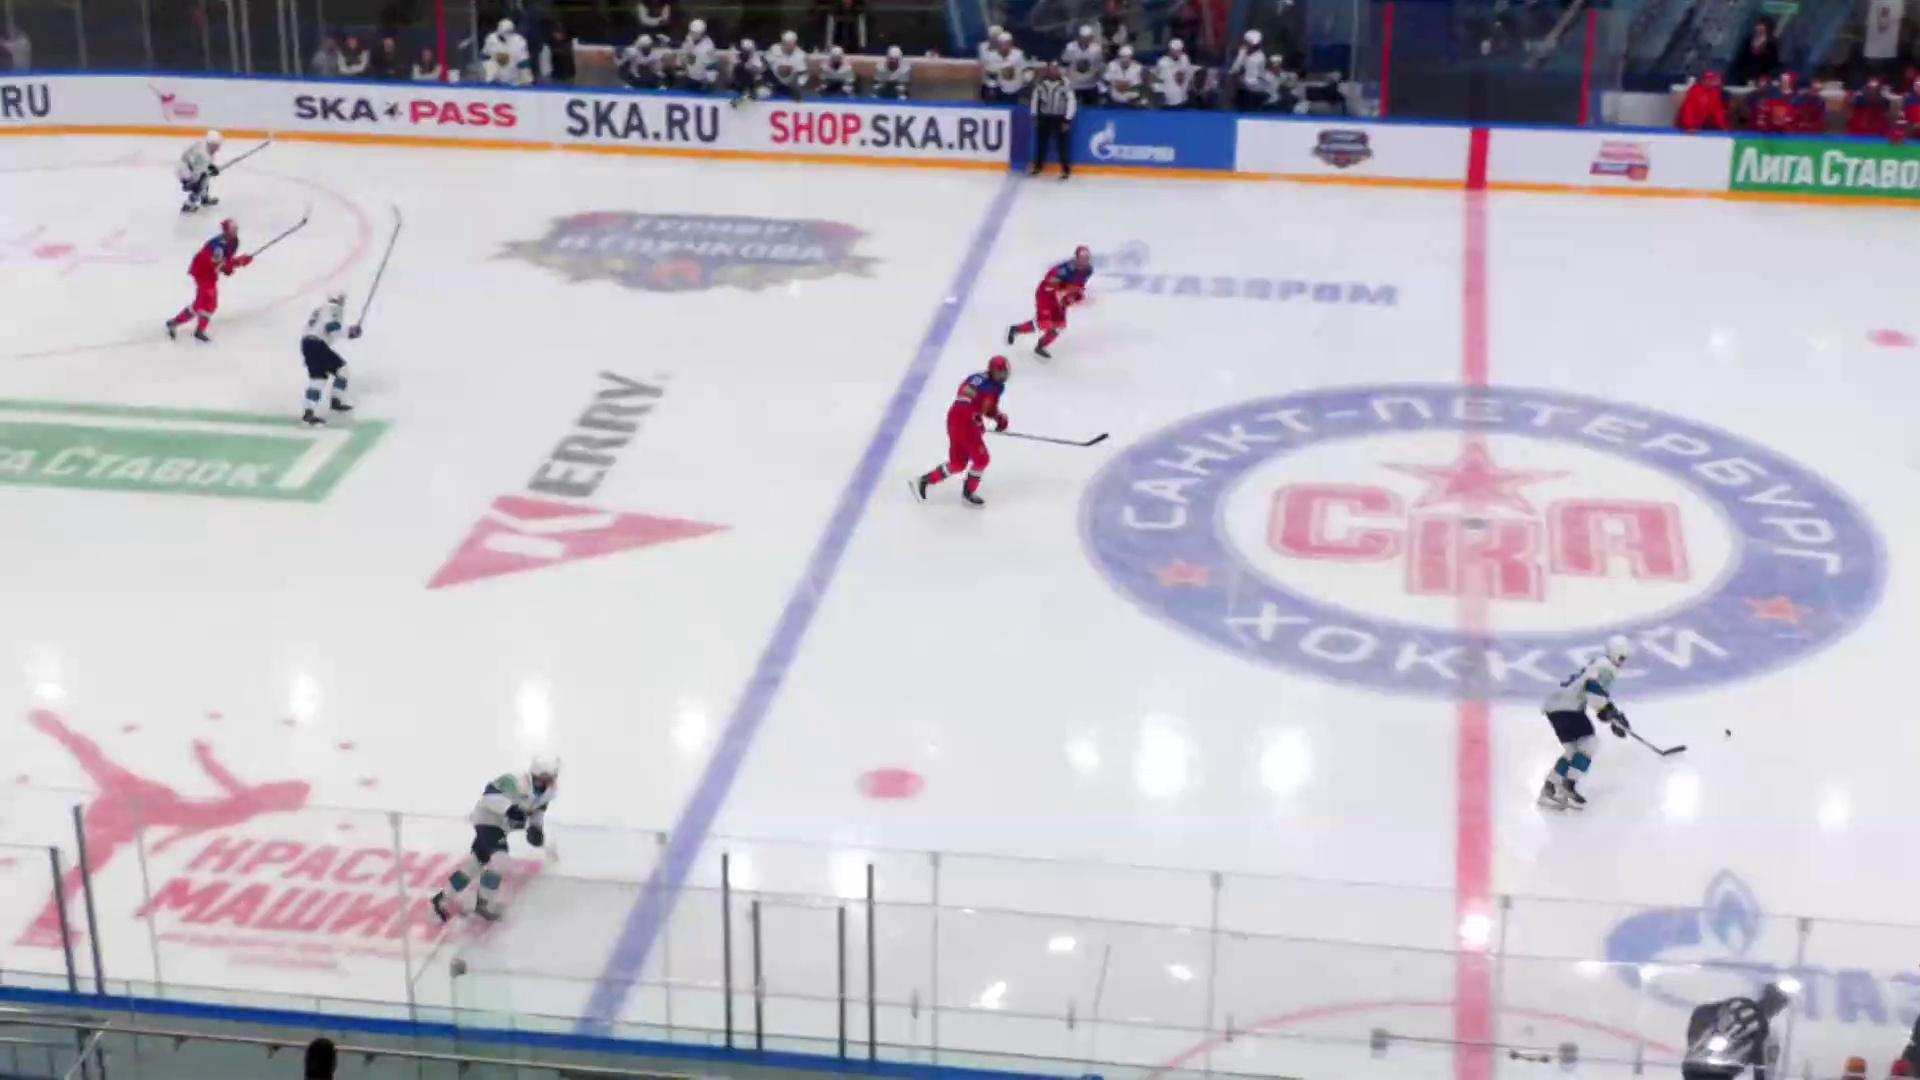ball: (1725, 729, 1731, 738)
